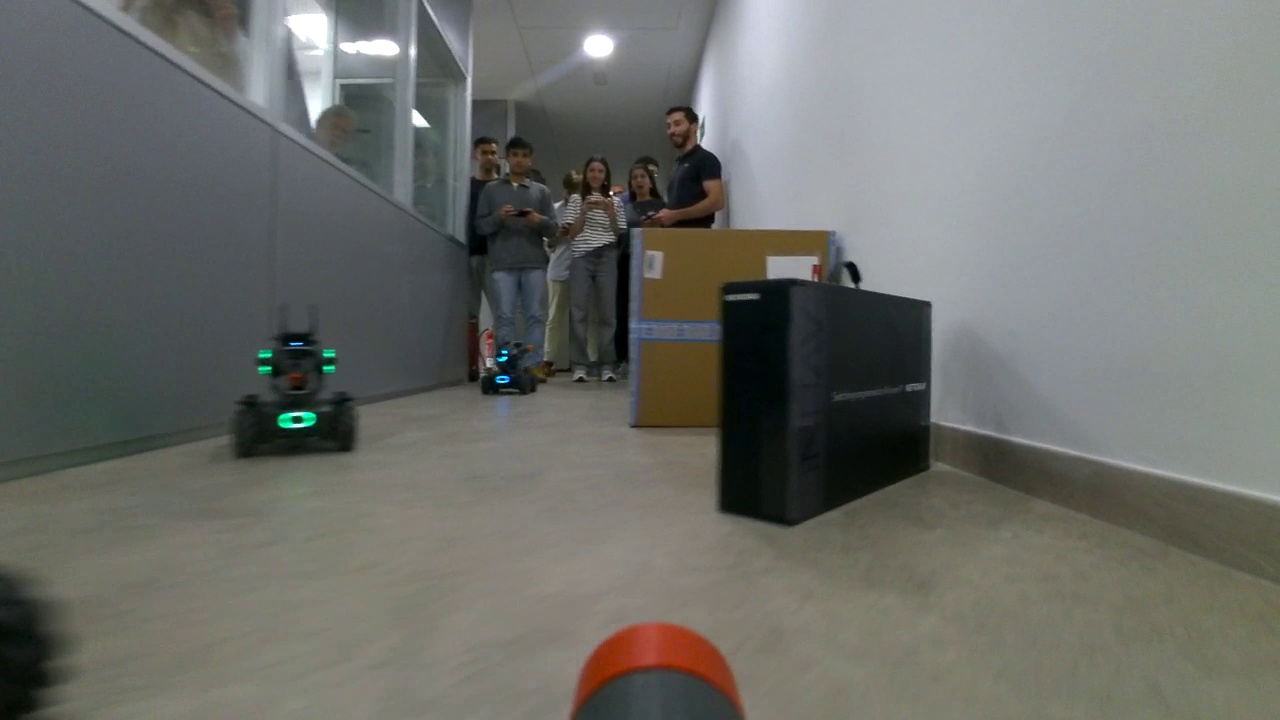robot: (230, 333, 359, 460), (478, 339, 539, 397)
